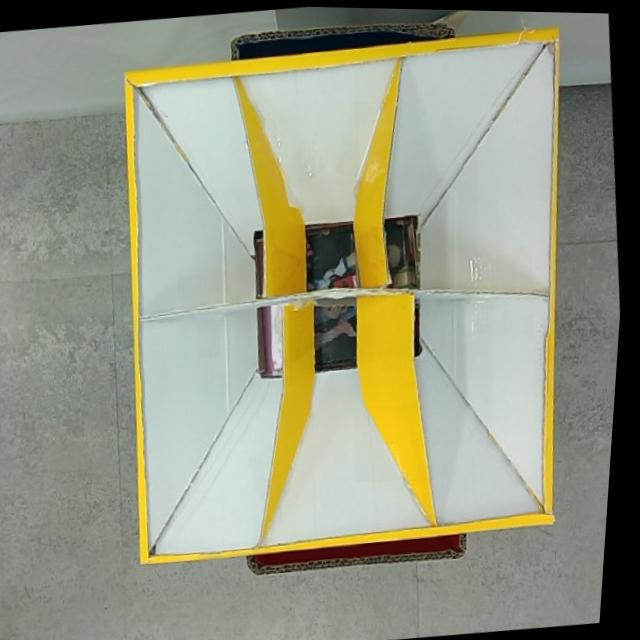box: (92, 2, 615, 592)
